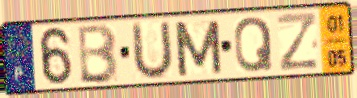6: (37, 24, 76, 89)
B: (77, 22, 121, 86)
M: (172, 18, 225, 79)
Q: (232, 15, 275, 75)
U: (131, 18, 175, 83)
Z: (275, 10, 321, 74)
